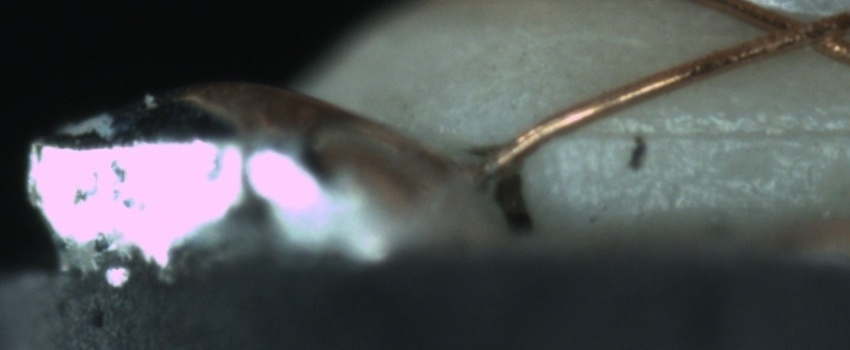CL: (749, 2, 847, 61)
DL: (566, 103, 845, 162)
